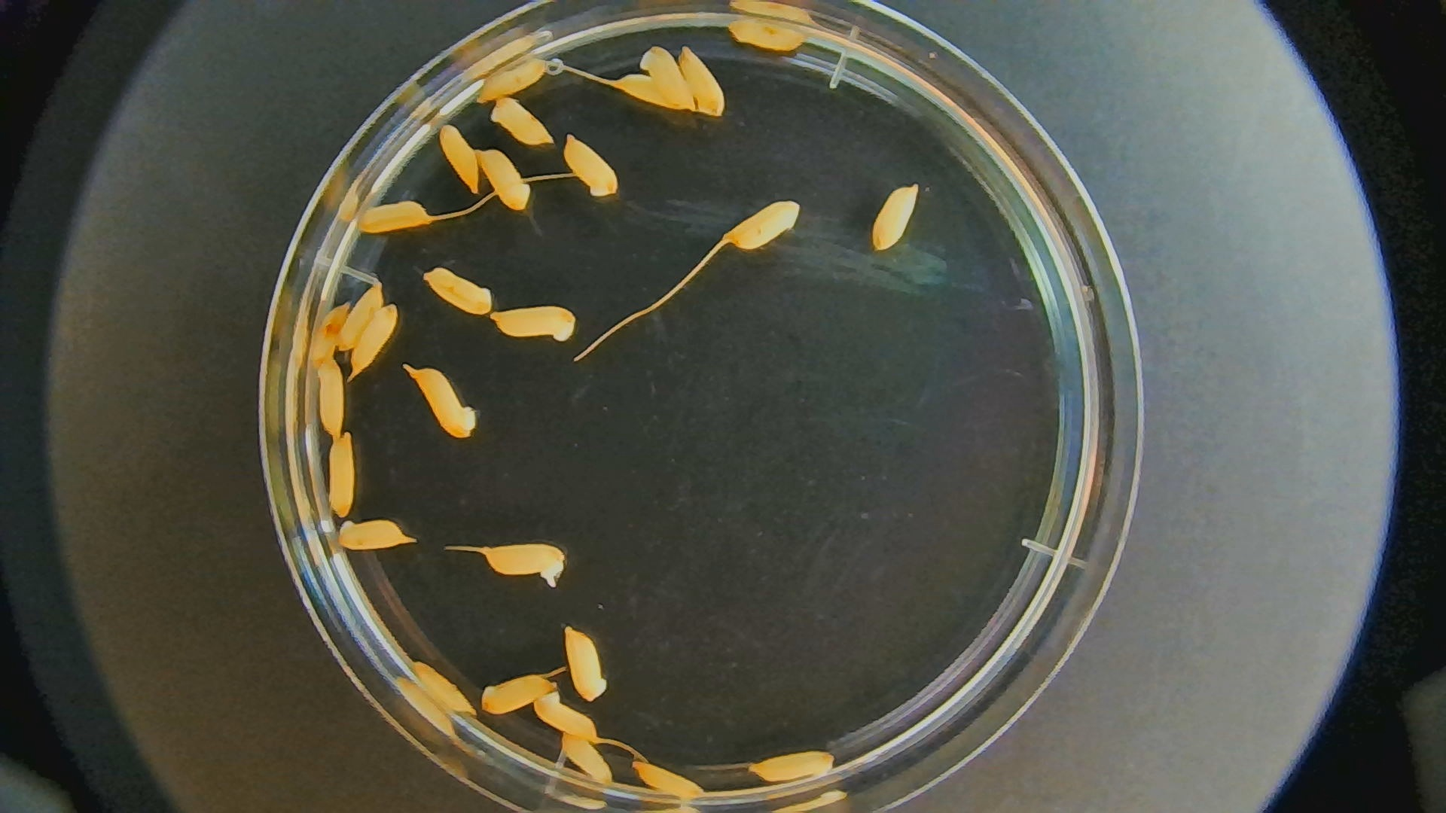no: (404, 361, 484, 440), (593, 62, 695, 115), (526, 689, 600, 753), (410, 656, 482, 718), (331, 277, 386, 356), (419, 257, 490, 318), (639, 41, 696, 115), (725, 199, 801, 253), (476, 146, 534, 215), (562, 626, 613, 702), (435, 120, 487, 194), (630, 757, 712, 803), (866, 181, 920, 250), (677, 44, 726, 120), (350, 303, 400, 377), (562, 134, 619, 198), (478, 674, 557, 720), (746, 748, 837, 787), (725, 14, 810, 55), (490, 304, 578, 343), (478, 58, 548, 105), (559, 729, 612, 791), (485, 542, 568, 580), (489, 93, 552, 143), (313, 361, 349, 441), (307, 298, 345, 370), (325, 431, 357, 513), (336, 518, 413, 551), (356, 201, 432, 233)
